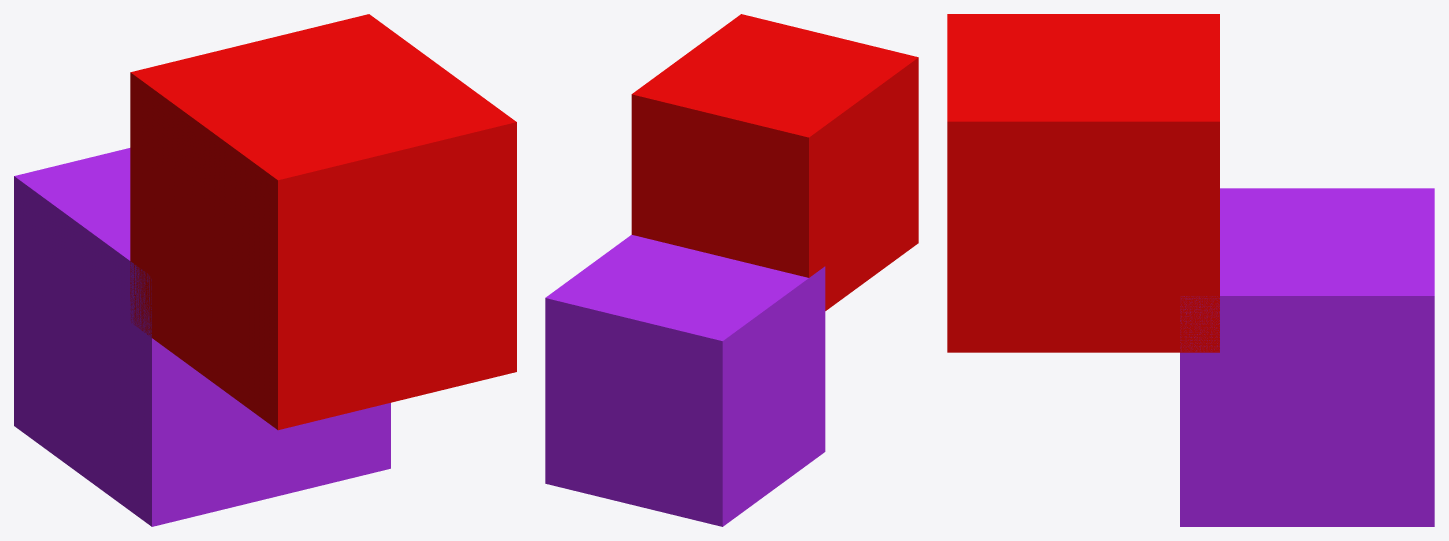
Rendered from bos.gltf.
3 renders of one model, left to right at view 1: azimuth 30°, elevation 25°; view 2: azimuth 150°, elevation 25°; view 3: azimuth 270°, elevation 25°, orthographic. The views are drawn at different scales.
Parts seen in each view (by area): view 1: 立方体.1, 立方体; view 2: 立方体, 立方体.1; view 3: 立方体.1, 立方体.
Part boxes in pixels (x1,y1,x2,y2): 立方体.1: (130,14,516,430); 立方体: (14,148,390,526); 立方体: (545,234,825,526); 立方体.1: (631,14,918,310); 立方体.1: (947,14,1219,352); 立方体: (1180,188,1434,526).
Size of the model in its own units: 99.28 by 174 by 190.
